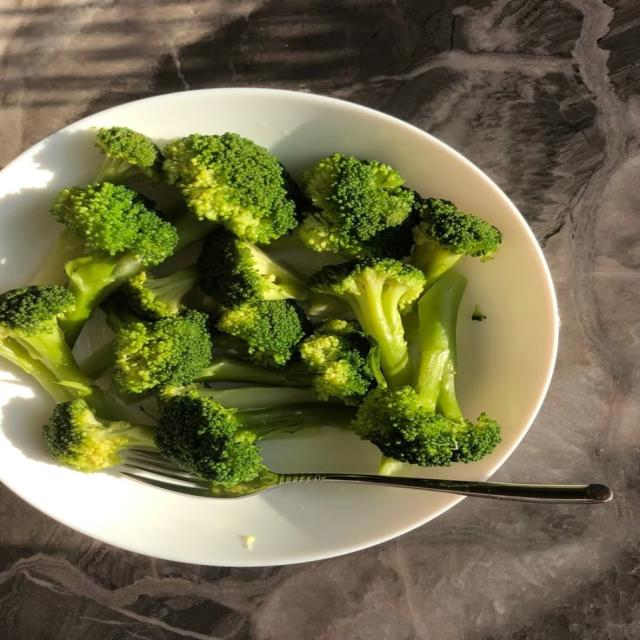broccoli: (354, 271, 500, 466), (83, 299, 312, 394), (52, 183, 177, 345), (155, 391, 353, 486), (164, 133, 297, 247), (310, 259, 425, 387), (0, 286, 107, 410), (198, 229, 341, 313), (298, 154, 414, 257), (198, 229, 308, 307), (114, 310, 212, 393), (43, 399, 154, 472), (411, 198, 502, 287), (216, 301, 310, 369), (300, 320, 374, 405), (157, 384, 317, 410), (121, 267, 199, 319), (94, 127, 162, 183), (95, 127, 163, 183), (196, 357, 313, 386), (472, 304, 486, 321)
